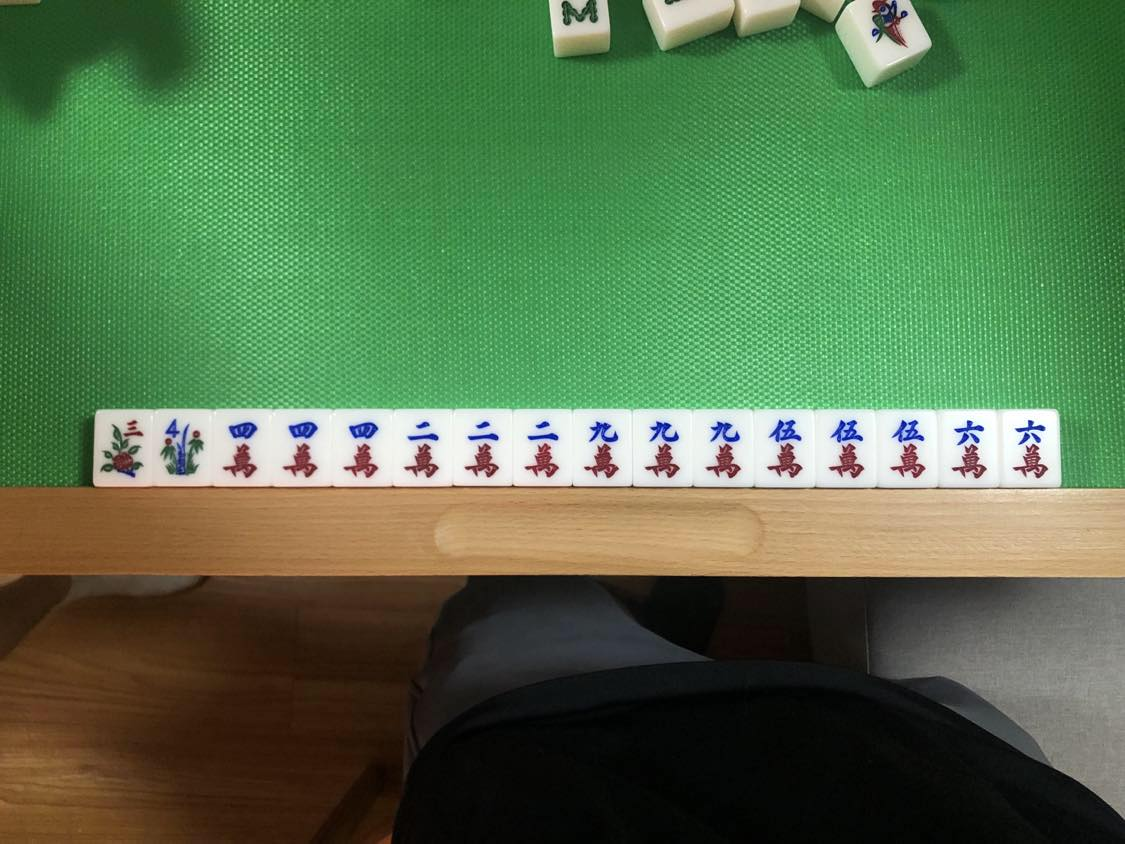character-five: (879, 413, 935, 485), (819, 412, 873, 485), (756, 413, 811, 484)
character-four: (275, 412, 328, 483), (338, 412, 386, 483), (218, 413, 267, 482)
character-nine: (636, 412, 690, 485), (698, 412, 751, 483), (575, 414, 628, 484)
character-six: (1005, 413, 1058, 487), (943, 414, 996, 485)
character-two: (515, 411, 568, 484), (395, 411, 447, 484), (456, 414, 508, 484)
flower-blue_four: (156, 413, 208, 484)
flower-red_three: (95, 412, 150, 484)
